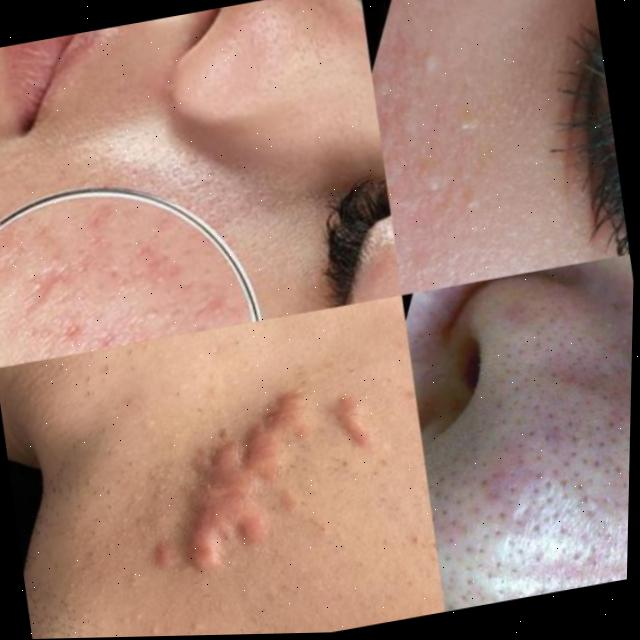Acne: (400, 291, 633, 612), (142, 364, 395, 588), (0, 191, 214, 374), (371, 38, 500, 263)
